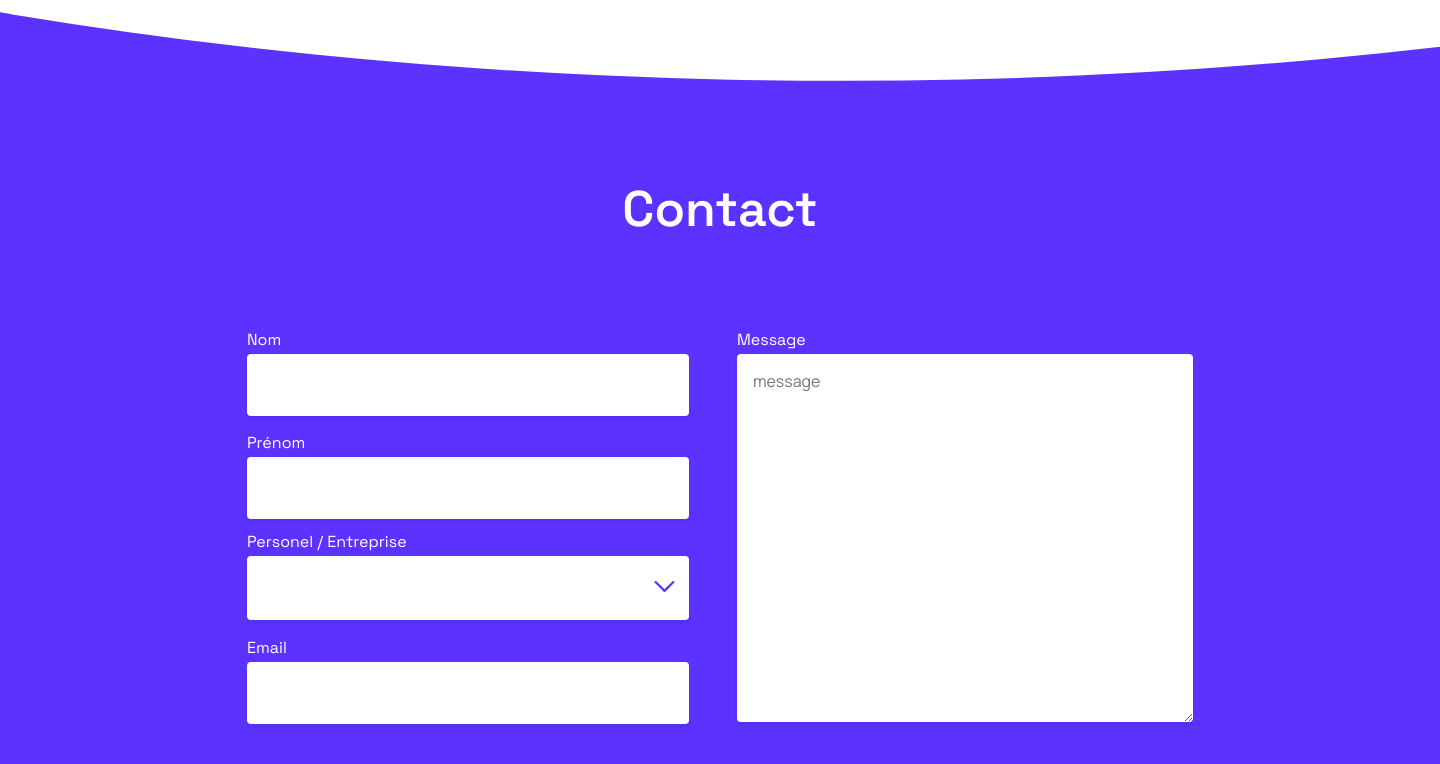
Scenario: and a click is triggered on the submit button › the success message is displayed
(page scrolled)
In the 1st field with test id "field-testid": (468, 385) left=247, top=354, right=689, bottom=416, type "Nom"
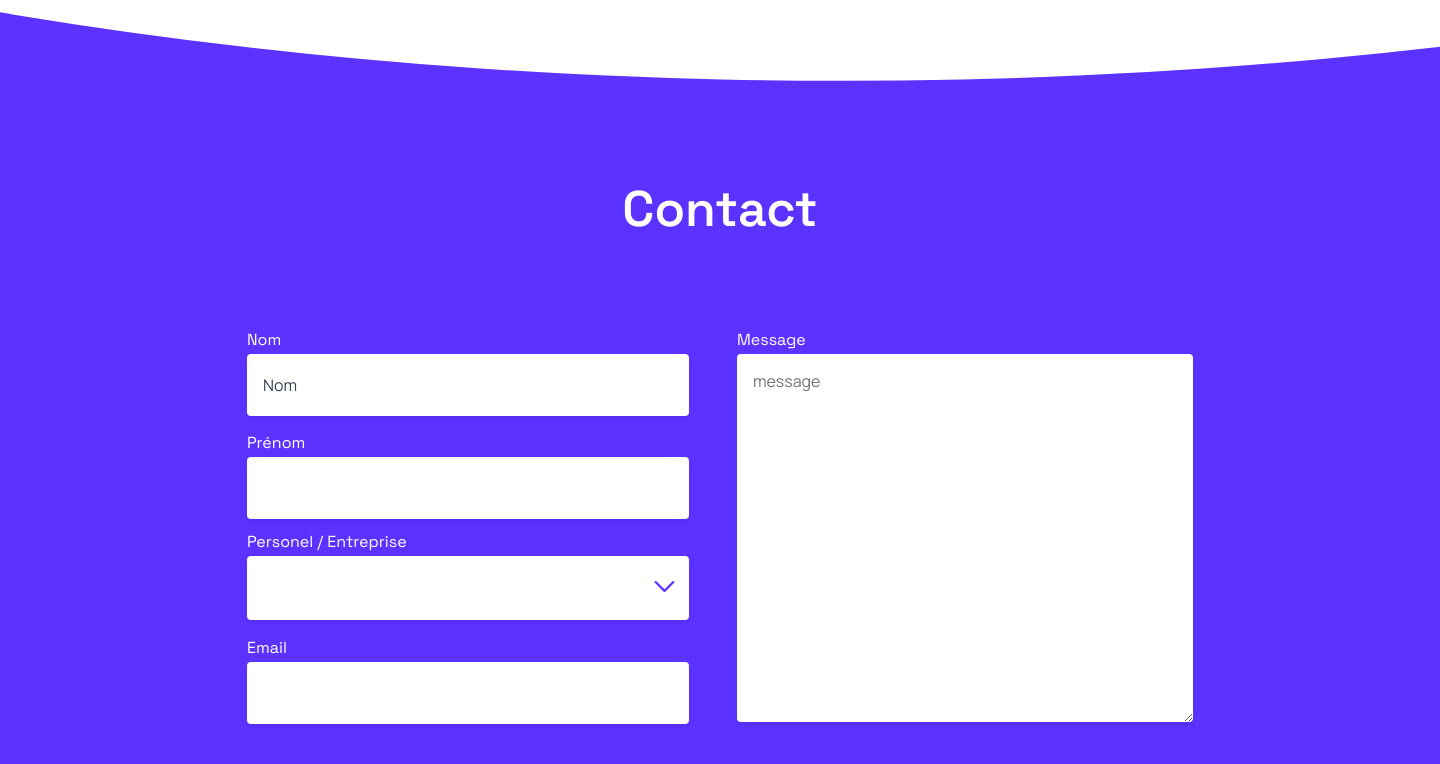
In the field with test id "field-testid" below "Prénom": (468, 488) left=247, top=457, right=689, bottom=519, type "Prenom"
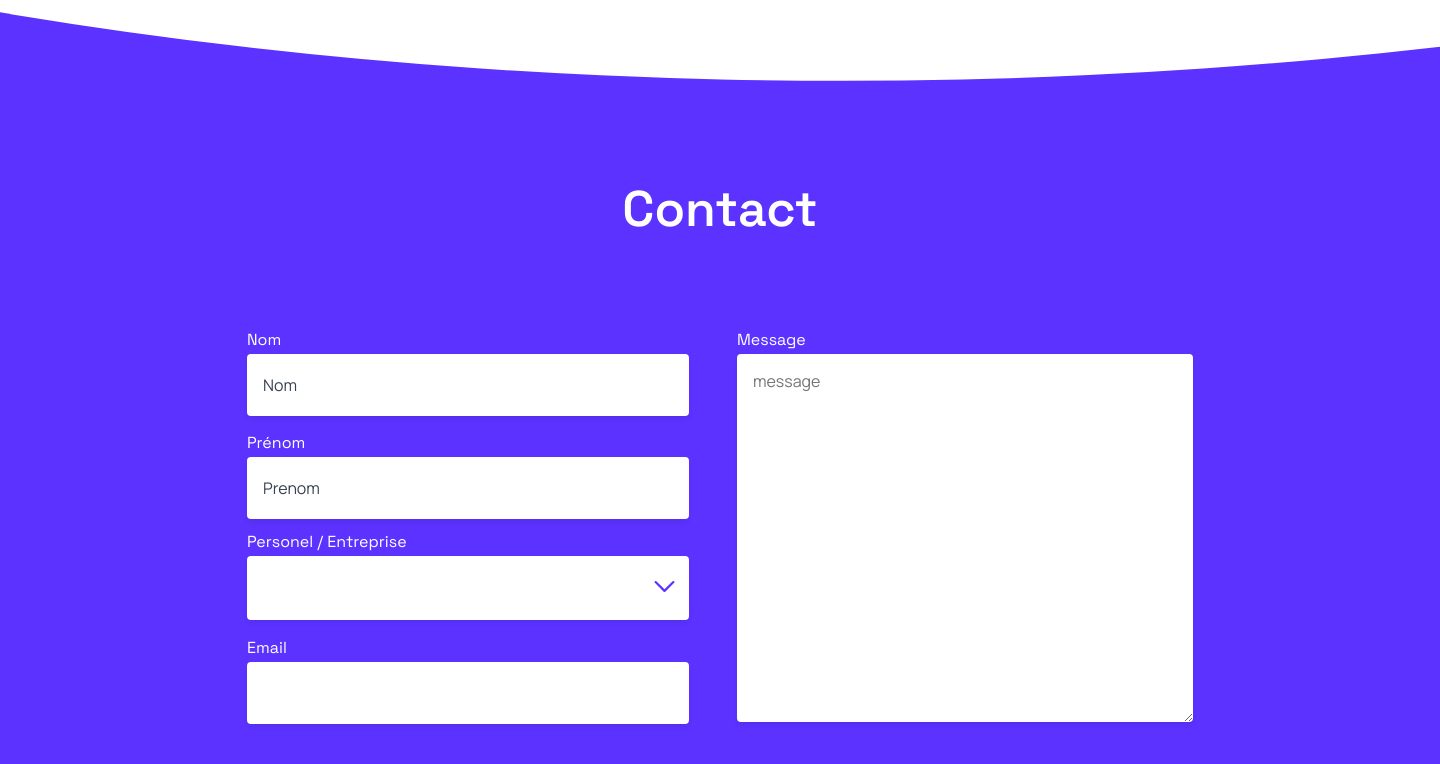
In the field with test id "field-testid" below "Email": (468, 693) left=247, top=662, right=689, bottom=724, type "test@test.com"
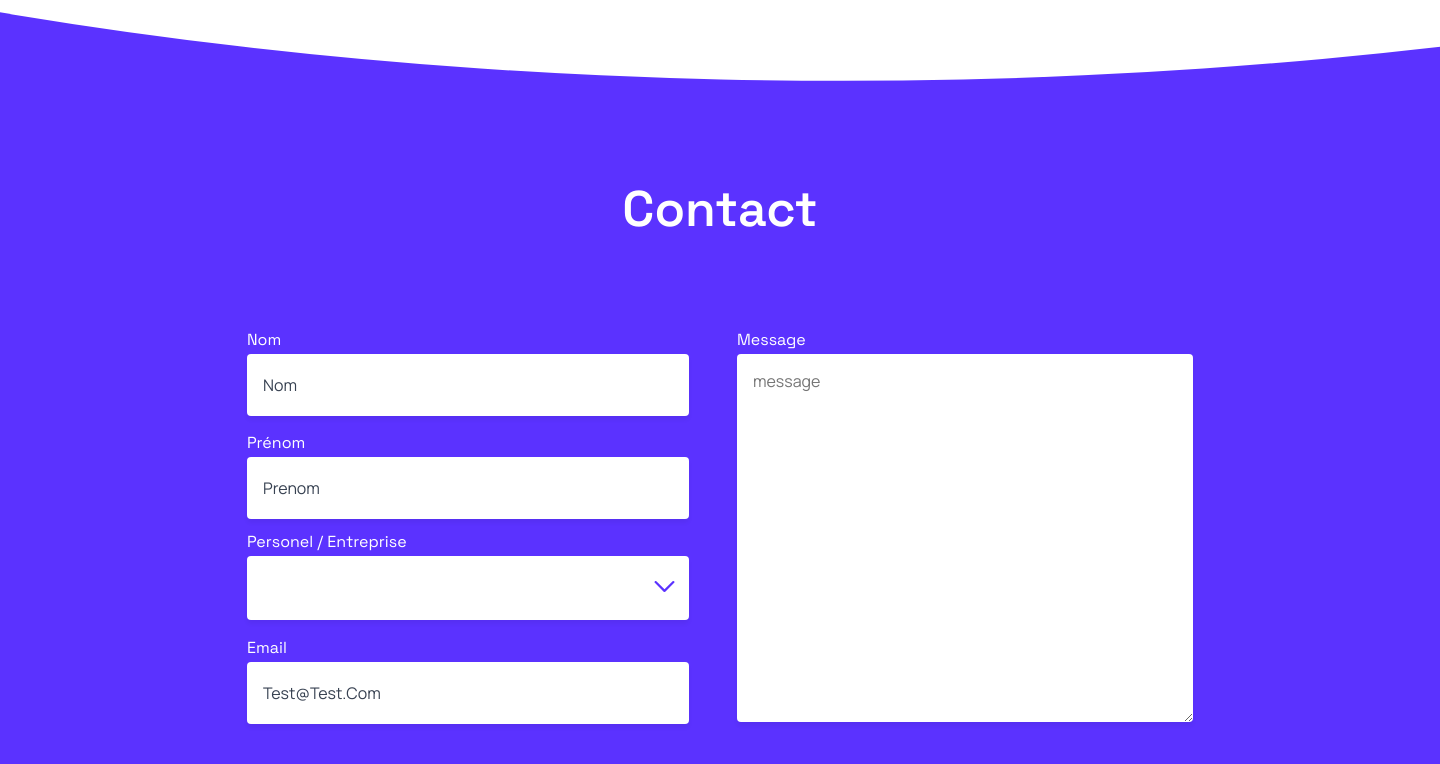
In the text box with test id "field-testid" showing "message": (965, 538) left=737, top=354, right=1193, bottom=722, type "Message de test assez long"
(page scrolled)
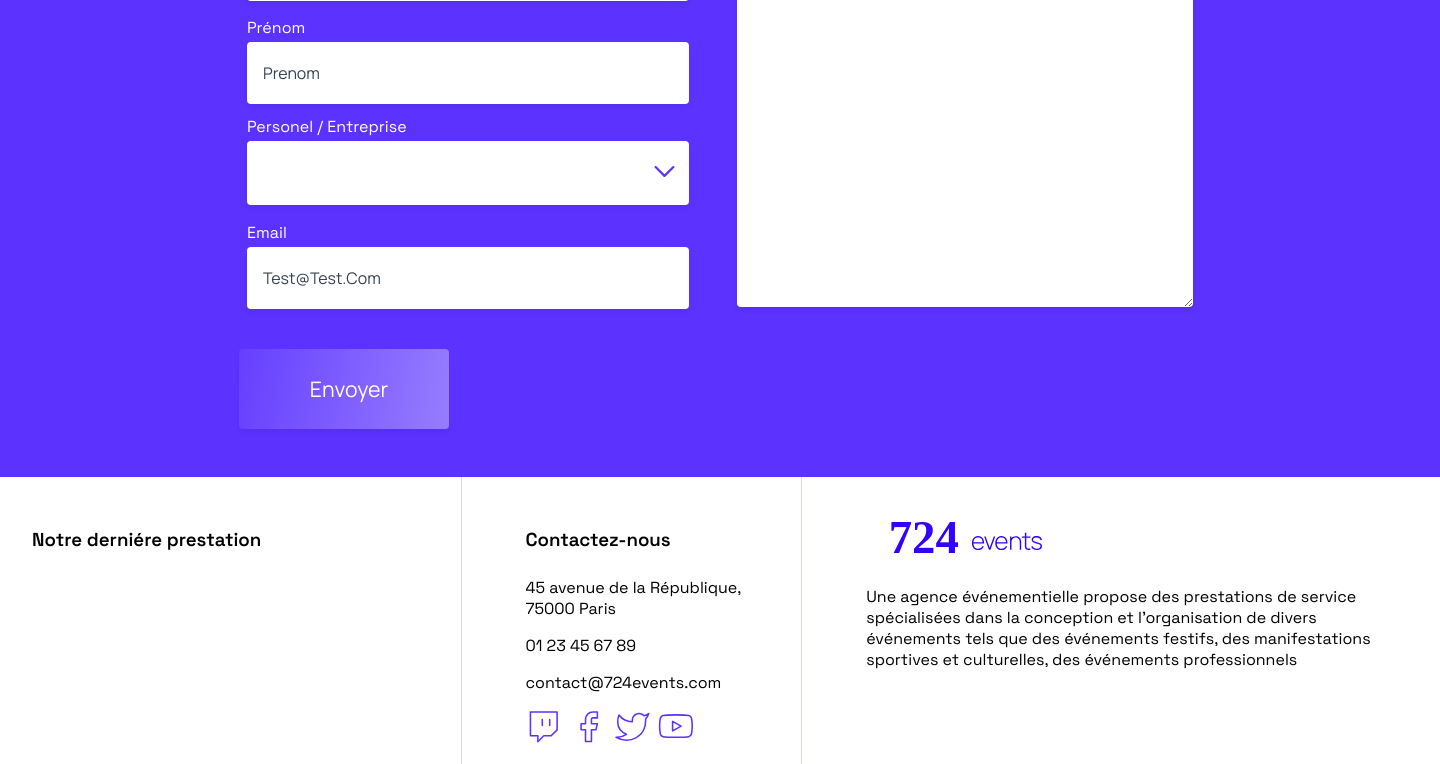
Click the button "Envoyer": (344, 389) left=239, top=349, right=449, bottom=429
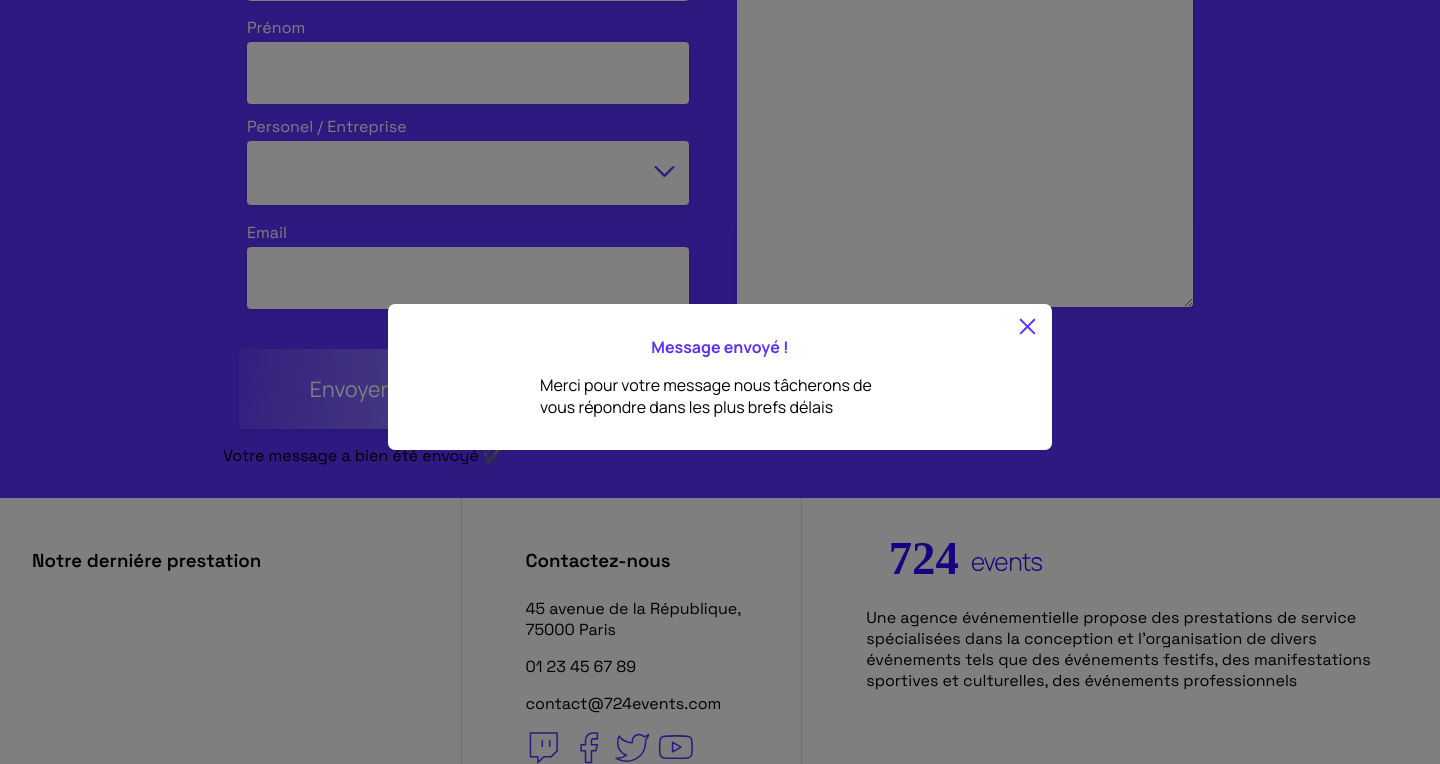
Expected: the text "Message envoyé !" is shown, left=651, top=336, right=789, bottom=358
